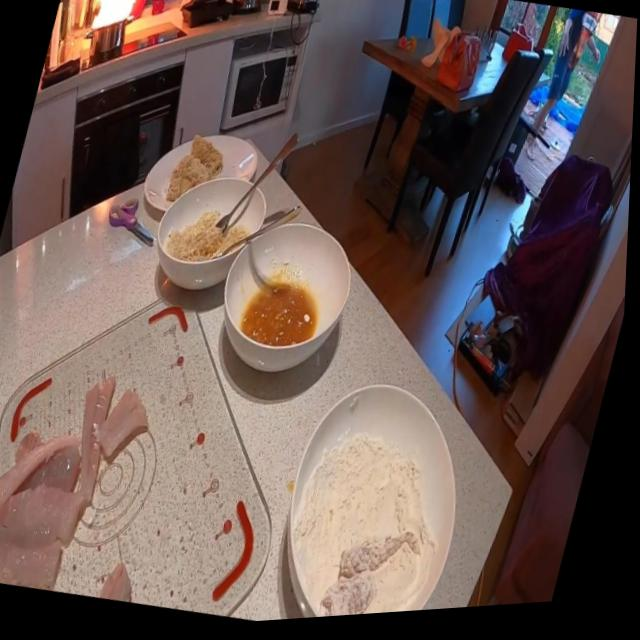fire: (82, 0, 155, 43)
